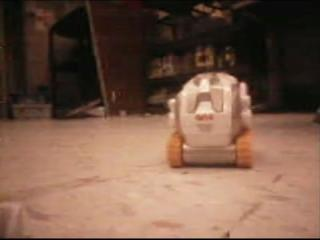cozmo: (165, 70, 254, 169)
